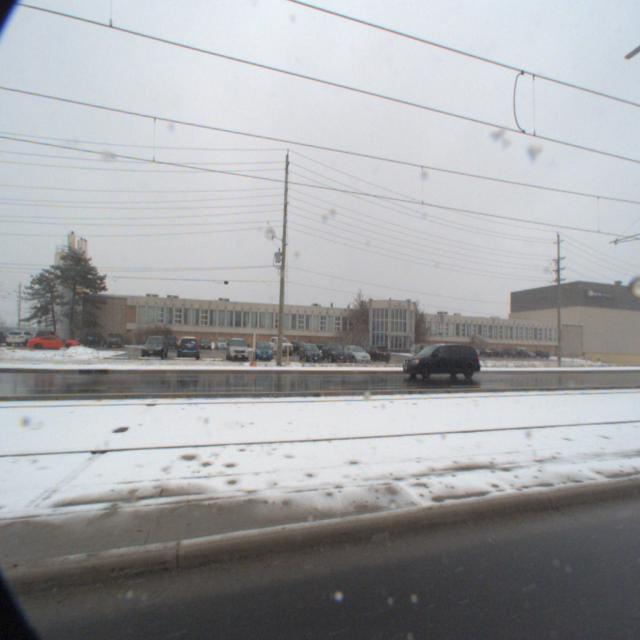Car: (404, 339, 490, 382), (14, 336, 74, 354), (132, 335, 164, 363), (338, 344, 372, 366), (222, 337, 249, 364), (260, 337, 294, 358), (358, 344, 392, 365), (171, 337, 199, 362), (318, 342, 348, 364), (296, 342, 322, 364), (250, 340, 272, 364)
